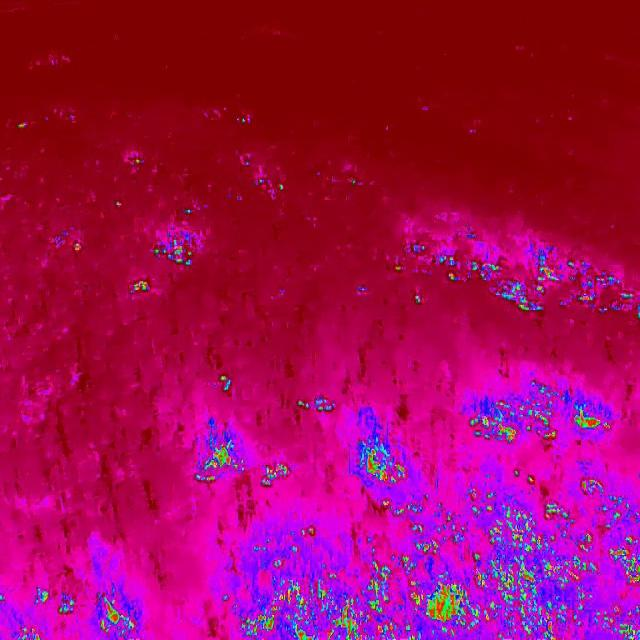fire: (229, 474, 640, 640), (393, 225, 640, 327), (458, 385, 610, 455), (186, 415, 293, 493), (1, 580, 140, 640), (128, 228, 200, 296), (357, 426, 405, 490), (72, 239, 87, 259)
